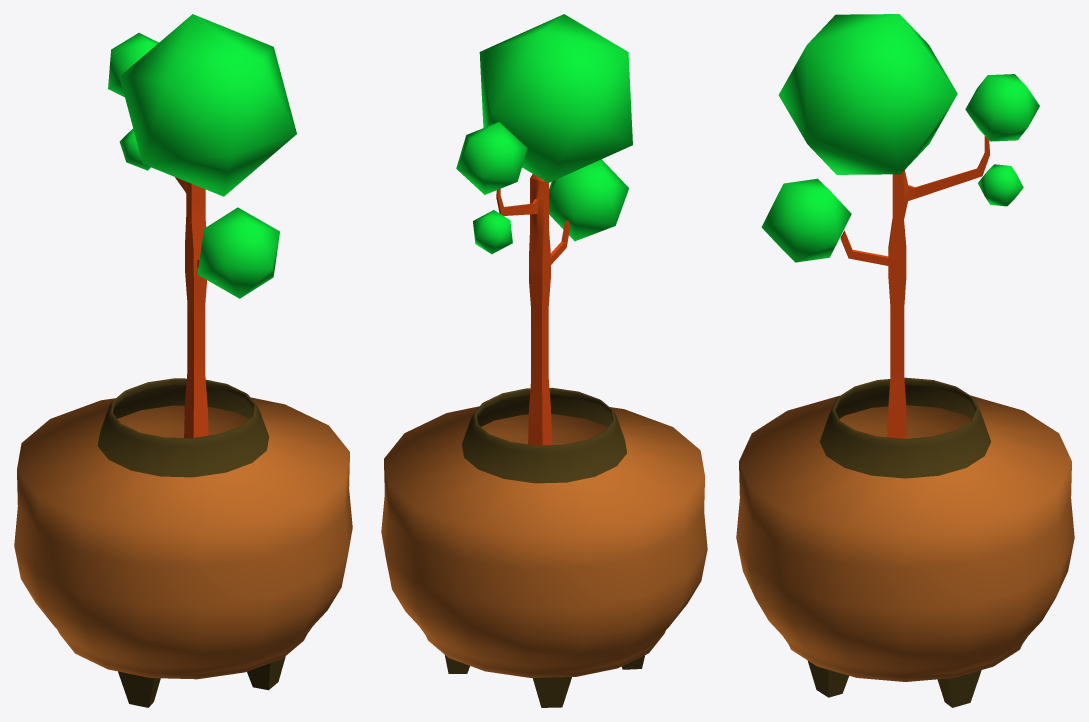
File: vasocomplanta.FBX
The picture shows the model from 3 angles, left to right: view 1: azimuth 30°, elevation 25°; view 2: azimuth 150°, elevation 25°; view 3: azimuth 270°, elevation 25°; orthographic projection. The views are drawn at different scales.
Visible parts, largest first — view 1: Teapot001, GeoSphere002, GeoSphere004, Box001, GeoSphere001, GeoSphere003; view 2: Teapot001, GeoSphere002, Box001, GeoSphere004, GeoSphere001, GeoSphere003; view 3: Teapot001, GeoSphere002, Box001, GeoSphere004, GeoSphere001, GeoSphere003.
Part boxes in pixels (left/top/right/bottom): Teapot001: left=14, top=378, right=352, bottom=707; GeoSphere002: left=119, top=14, right=296, bottom=196; GeoSphere004: left=197, top=207, right=279, bottom=298; Box001: left=175, top=177, right=208, bottom=438; GeoSphere001: left=108, top=33, right=158, bottom=97; GeoSphere003: left=119, top=128, right=150, bottom=170; Teapot001: left=381, top=387, right=707, bottom=707; GeoSphere002: left=479, top=14, right=632, bottom=182; Box001: left=496, top=174, right=570, bottom=445; GeoSphere004: left=549, top=159, right=629, bottom=241; GeoSphere001: left=456, top=122, right=527, bottom=194; GeoSphere003: left=473, top=210, right=512, bottom=254; Teapot001: left=736, top=377, right=1074, bottom=707; GeoSphere002: left=778, top=14, right=957, bottom=174; Box001: left=840, top=136, right=990, bottom=438; GeoSphere004: left=761, top=178, right=851, bottom=262; GeoSphere001: left=965, top=74, right=1039, bottom=141; GeoSphere003: left=978, top=164, right=1023, bottom=206.
Size of the model in its own units: 19.7 by 41.83 by 19.41.
